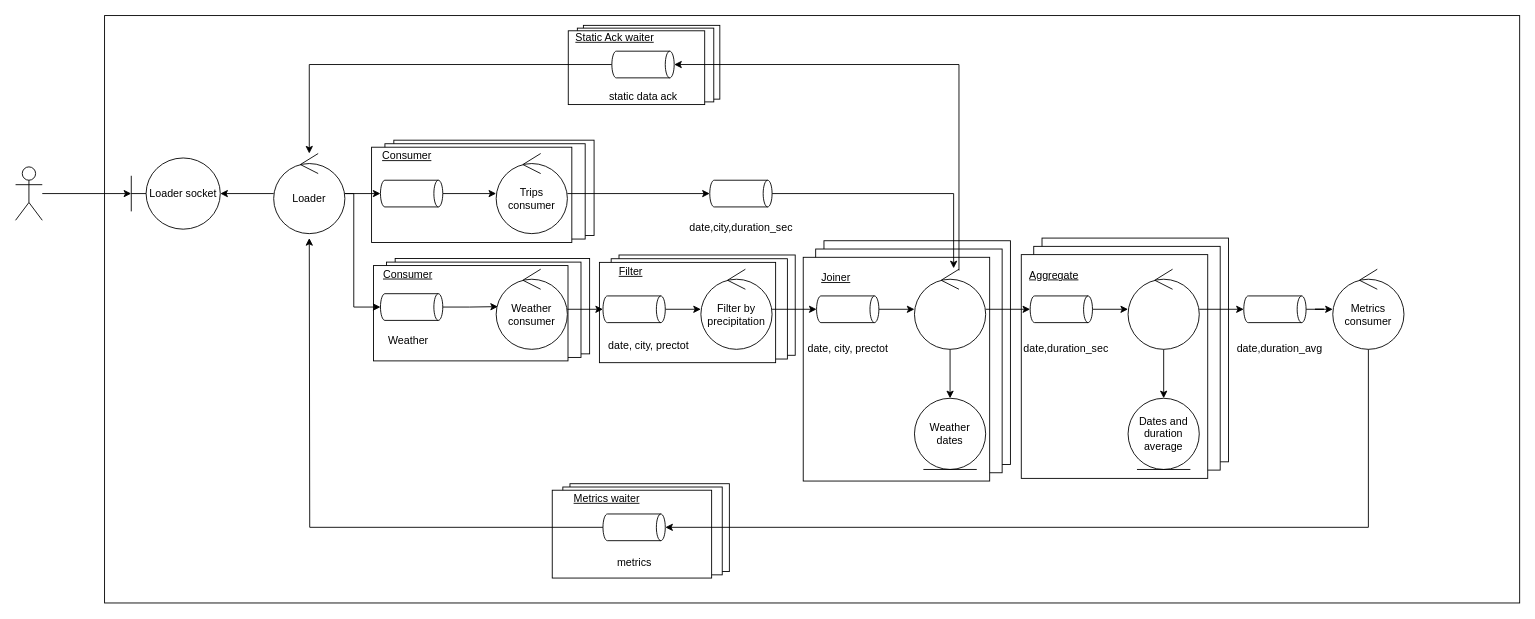
Some shapes in this 1535 by 619 pixel diagram are drawn without their labels. The centre of each missing label's shape, as x and y in pixels:
Aggregate by duration: the point at 1163,308
Client: the point at 28,193
Joiner by date: the point at 950,308
Trips: the point at 411,193
